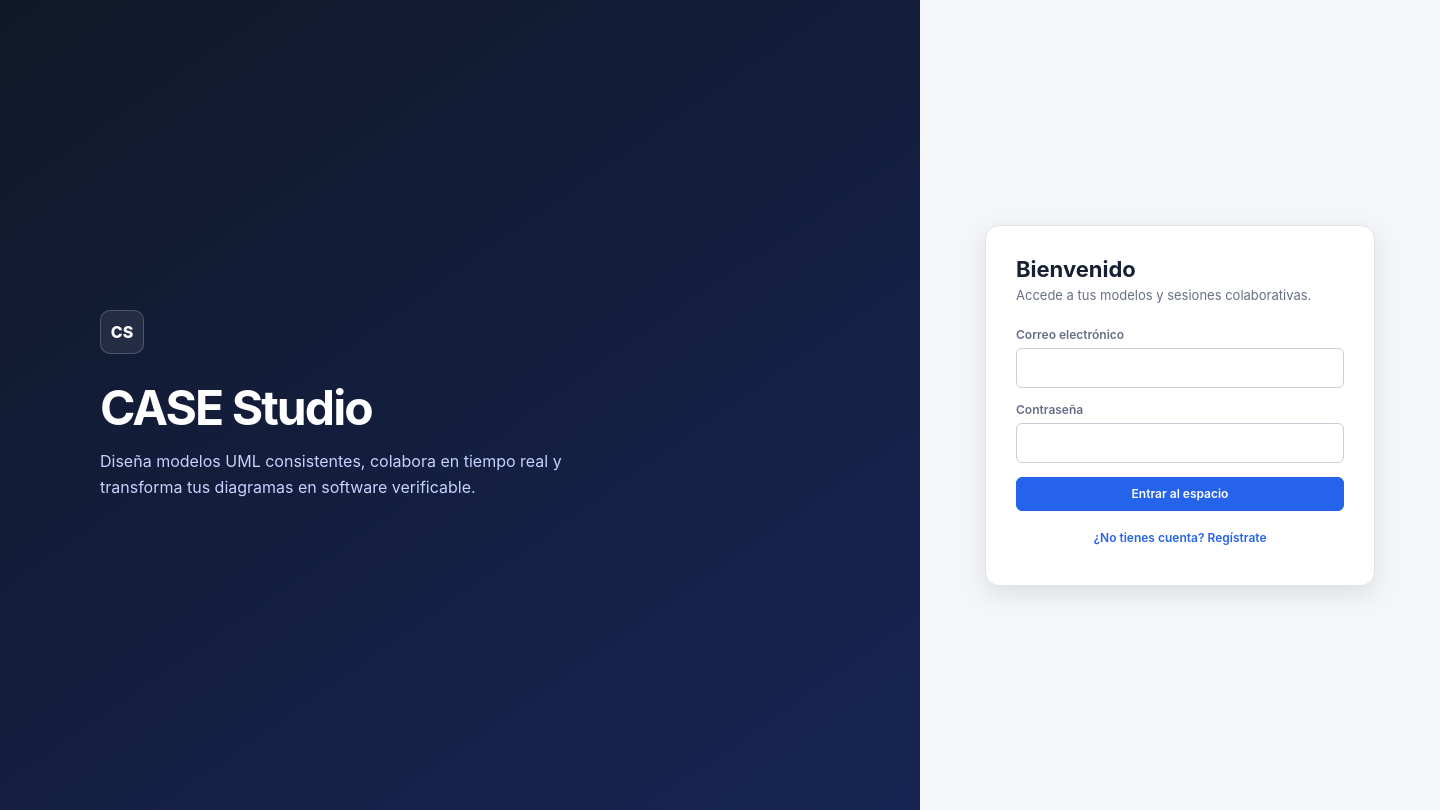
it: ConnectedApp — identidad y sesión (P10-009) › muestra error de autenticación accesible cuando el login falla
Step 1. Type "dev@case.local" into the field with test id "login-email-input" → (1180, 368), box [1016,348,1344,388]
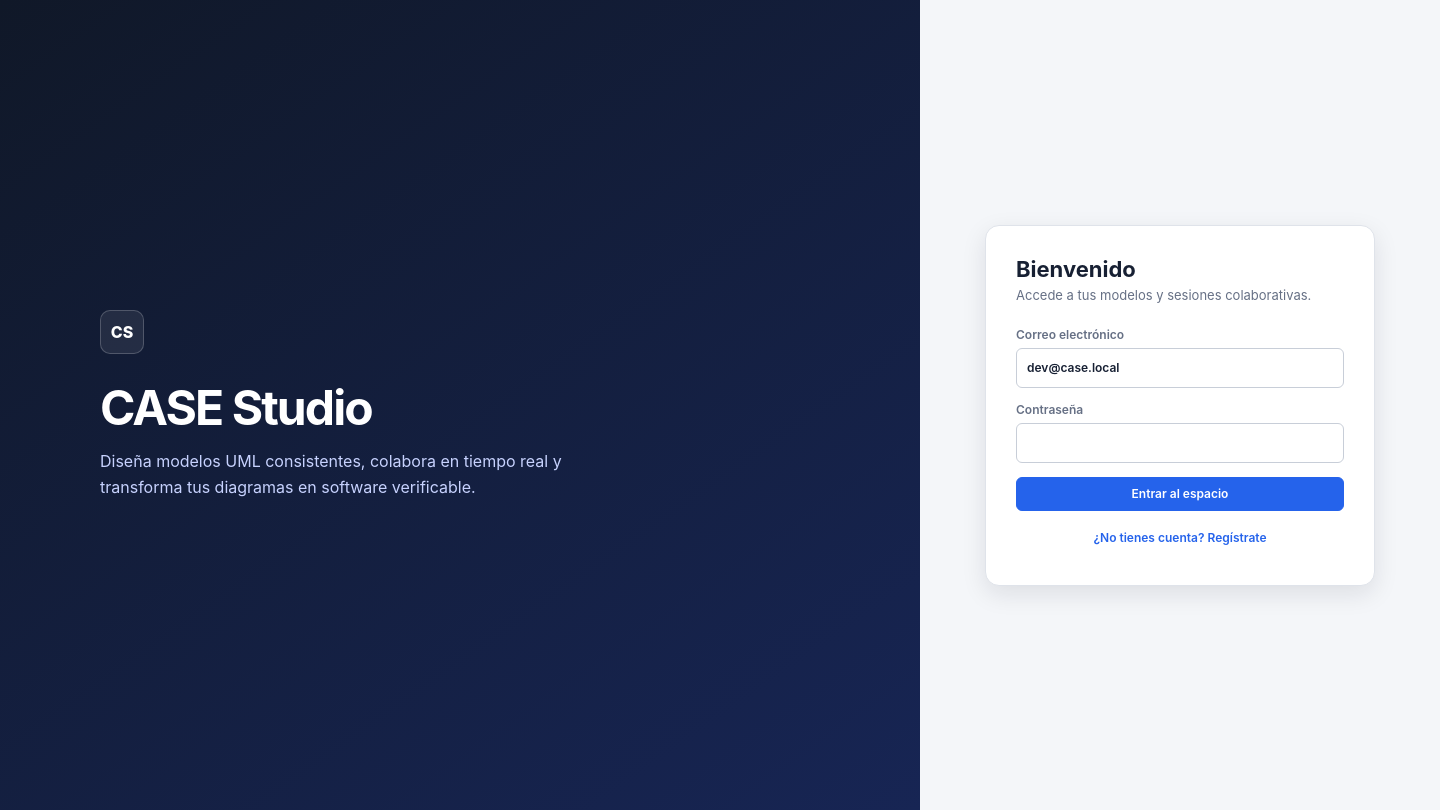
Step 2. Type "x" into the password field with test id "login-password-input" → (1180, 442), box [1016,422,1344,462]
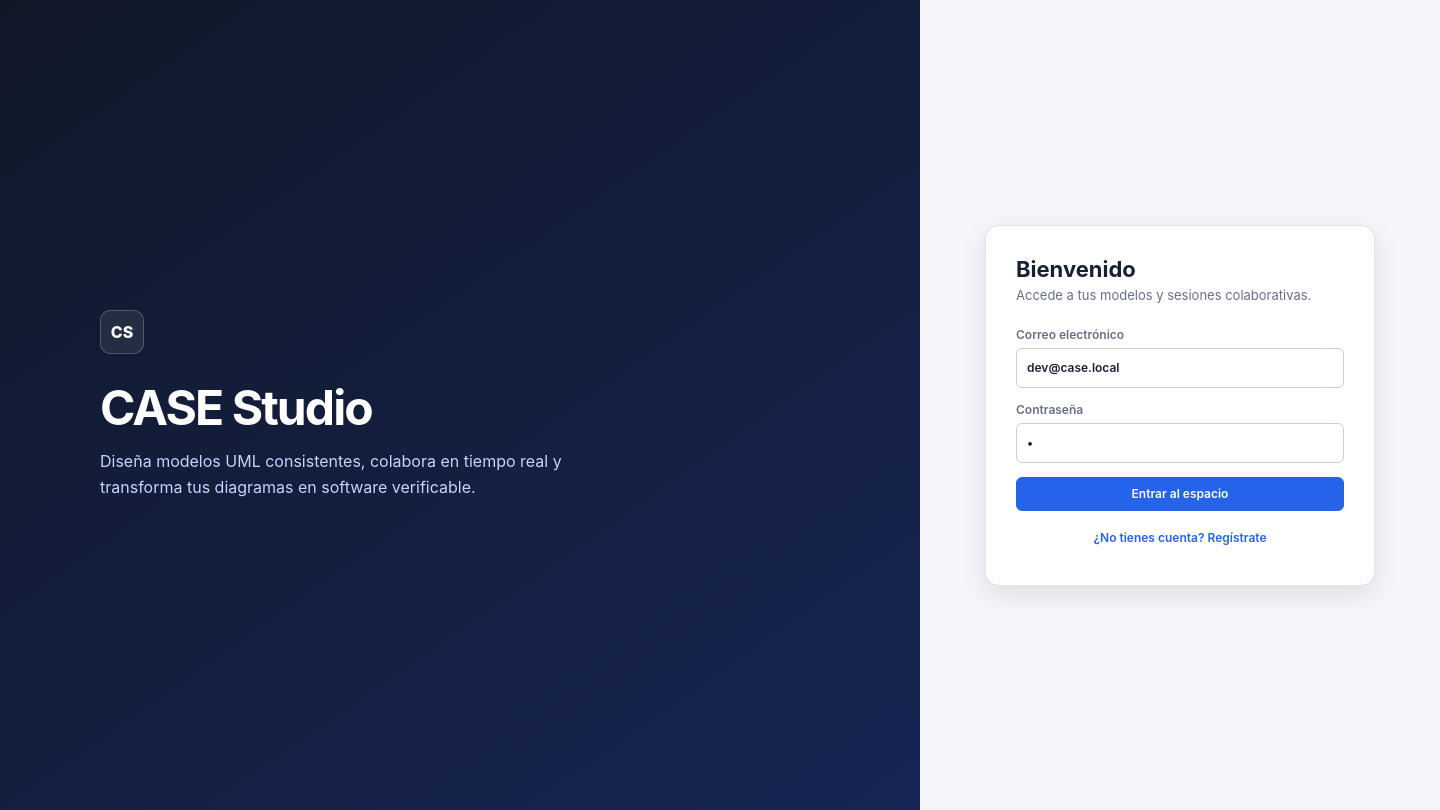
Step 3. Click the button with test id "login-submit" → (1180, 494), box [1016,476,1344,510]
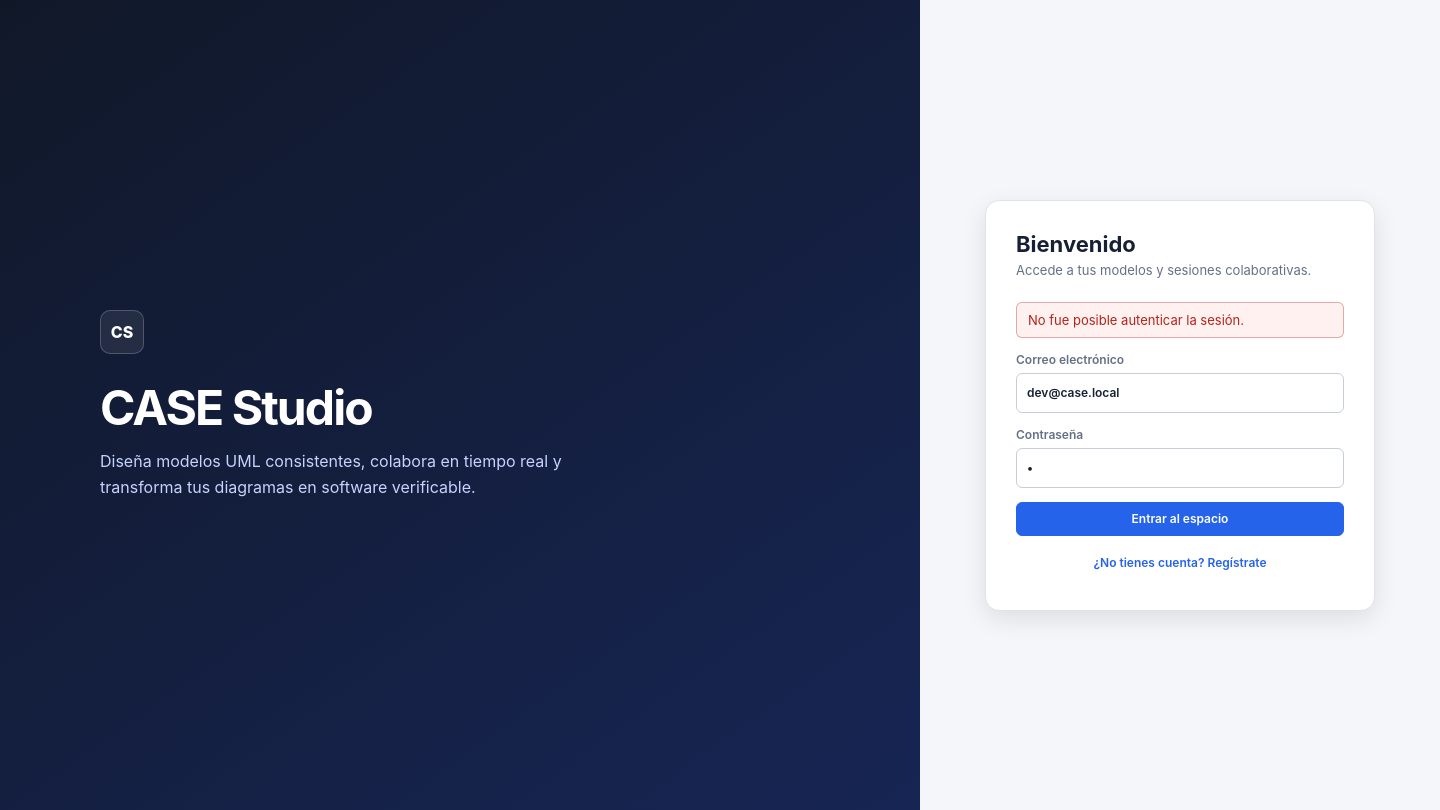
Now the message shows "No fue posible autenticar", box [1028,312,1244,328]
